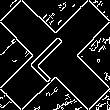L_NE: (26, 26, 84, 84)
